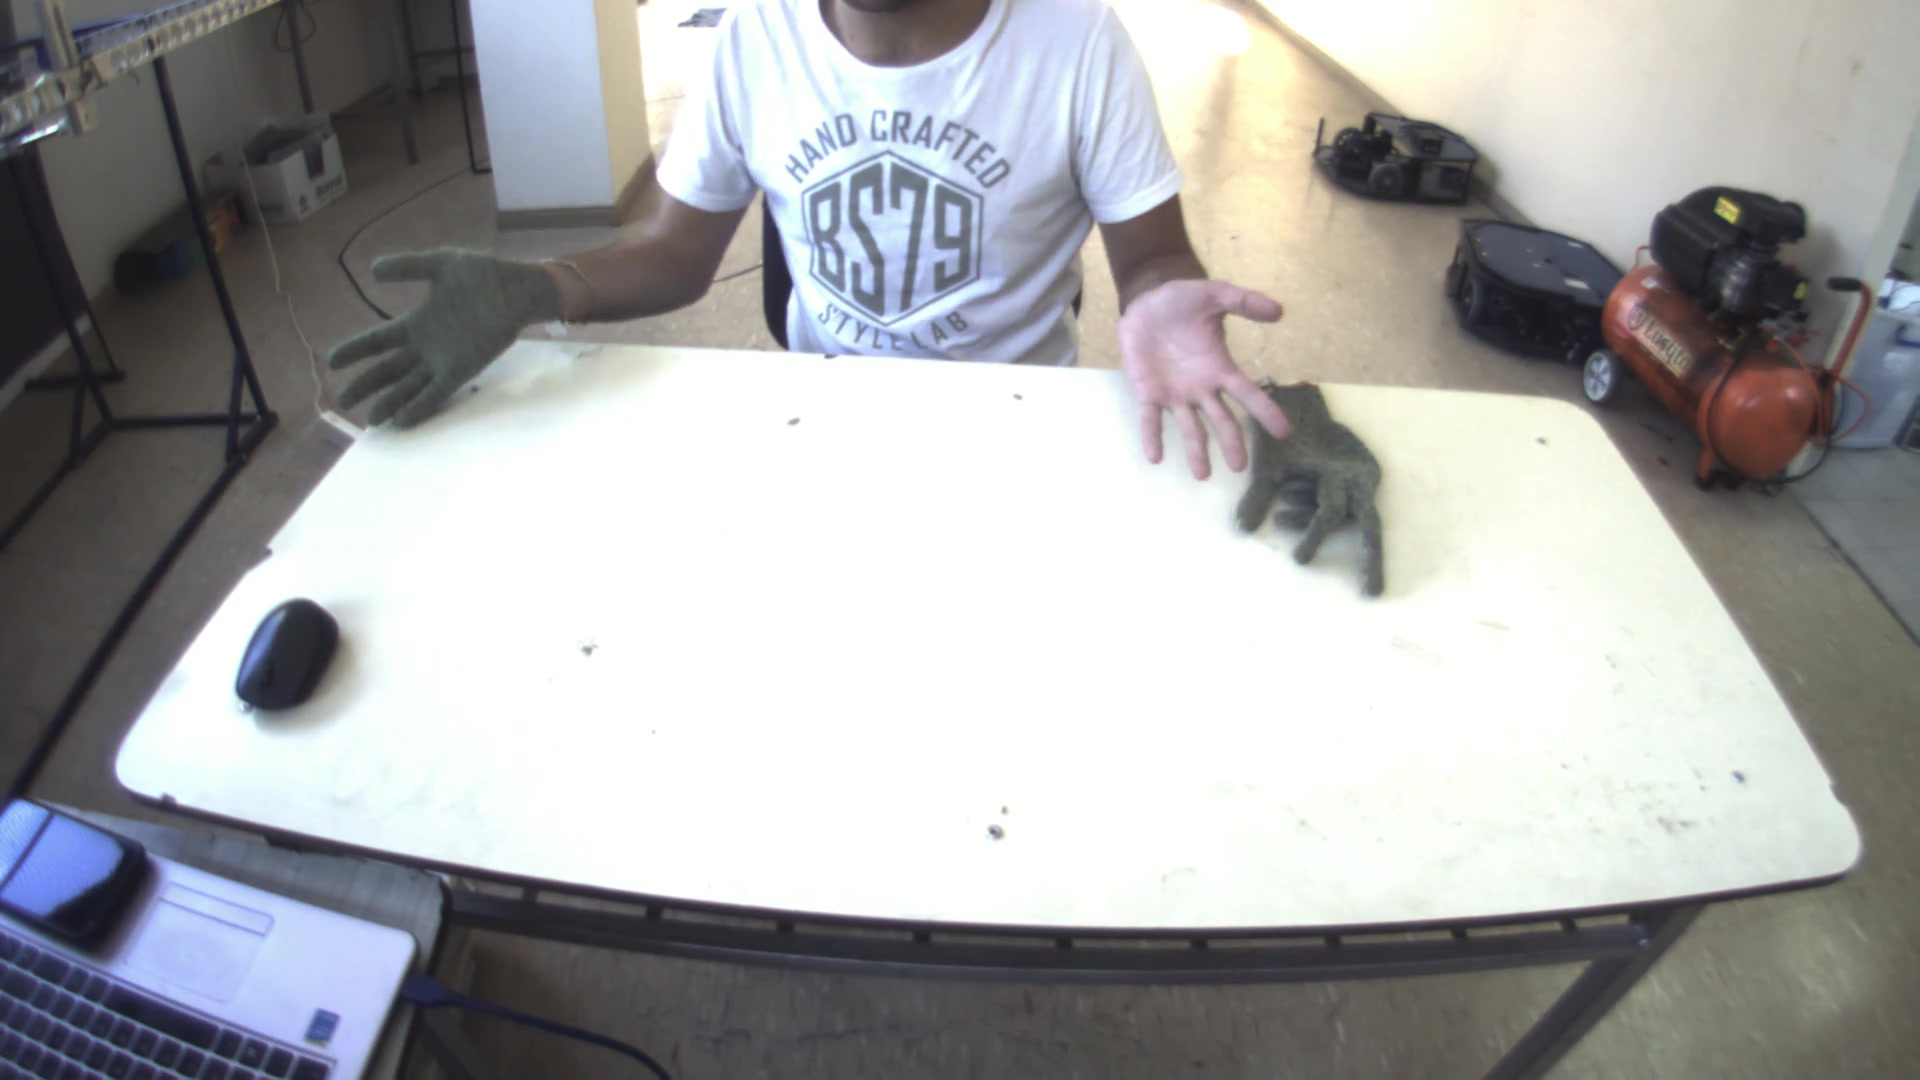hand: (307, 228, 553, 440), (1117, 261, 1308, 481)
